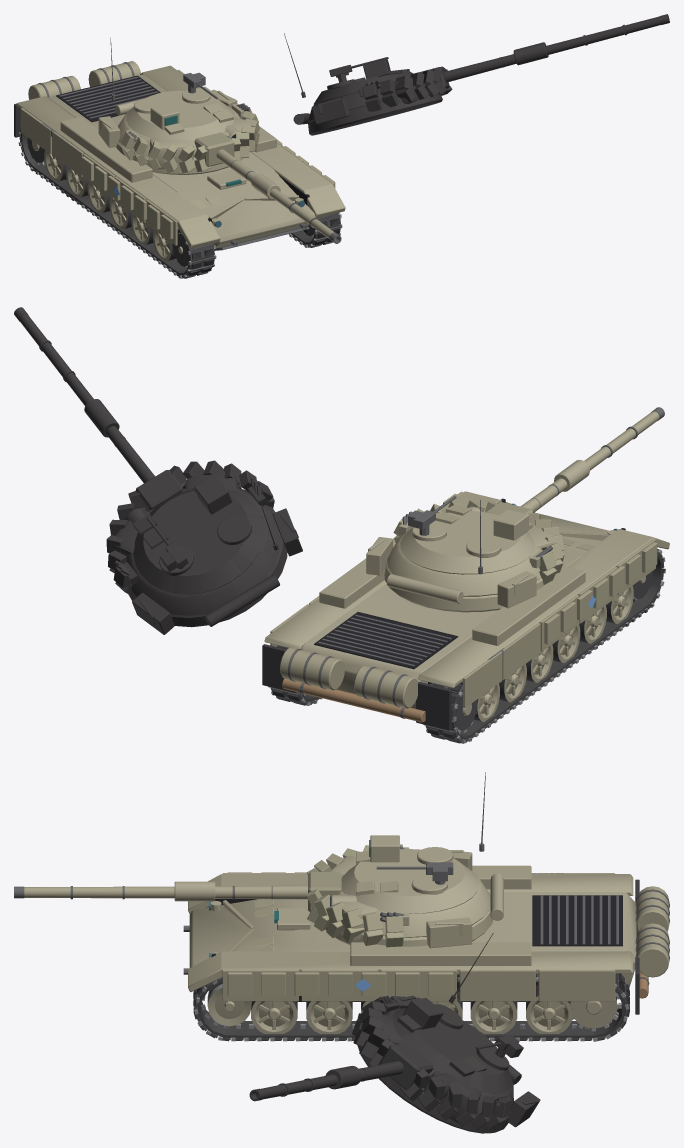
File: tank__t_72av.glb
The picture shows the model from 3 angles, top to bottom: view 1: azimuth 30°, elevation 25°; view 2: azimuth 150°, elevation 25°; view 3: azimuth 270°, elevation 25°; orthographic projection. The views are drawn at different scales.
Visible parts, largest first — view 1: Hull_Mesh, Wreck, Turret_Mesh, Track_L_Mesh, Gun_Mesh, Track_R_Mesh, Gunner_Sight_Mesh, Wheel_L0_Mesh, Wheel_L2_Mesh, Wheel_L3_Mesh, Wheel_L4_Mesh, Wheel_L1_Mesh (+1 smaller); view 2: Hull_Mesh, Wreck, Turret_Mesh, Track_L_Mesh, Gun_Mesh, Gunner_Sight_Mesh, Wheel_L3_Mesh, Wheel_L5_Mesh, Wheel_L1_Mesh, Wheel_L2_Mesh, Wheel_L4_Mesh; view 3: Hull_Mesh, Wreck, Turret_Mesh, Gun_Mesh, Track_R_Mesh, Wheel_R0_Mesh, Wheel_R1_Mesh, Wheel_R4_Mesh, Wheel_R5_Mesh, Sprocket_R_Mesh, Idler_R_Mesh, Gunner_Sight_Mesh (+1 smaller).
Boxes of the visible parts, box(x1,y1,x2,y2) form: Hull_Mesh: box(14, 61, 345, 250); Wreck: box(18, 14, 669, 278); Turret_Mesh: box(98, 89, 259, 174); Track_L_Mesh: box(18, 124, 216, 278); Gun_Mesh: box(194, 132, 341, 243); Track_R_Mesh: box(289, 213, 342, 247); Gunner_Sight_Mesh: box(150, 103, 179, 129); Wheel_L0_Mesh: box(44, 150, 66, 181); Wheel_L2_Mesh: box(87, 182, 110, 213); Wheel_L3_Mesh: box(109, 198, 131, 229); Wheel_L4_Mesh: box(131, 214, 153, 245); Wheel_L1_Mesh: box(66, 166, 88, 197); Hull_Mesh: box(262, 491, 669, 730); Wreck: box(14, 307, 665, 743); Turret_Mesh: box(366, 500, 564, 612); Track_L_Mesh: box(423, 549, 665, 743); Gun_Mesh: box(486, 407, 664, 515); Gunner_Sight_Mesh: box(493, 509, 528, 540); Wheel_L3_Mesh: box(552, 625, 580, 663); Wheel_L5_Mesh: box(606, 586, 633, 624); Wheel_L1_Mesh: box(499, 664, 526, 702); Wheel_L2_Mesh: box(526, 644, 553, 682); Wheel_L4_Mesh: box(579, 605, 606, 643); Hull_Mesh: box(183, 865, 669, 1014); Wreck: box(194, 933, 629, 1133); Turret_Mesh: box(307, 844, 503, 948); Gun_Mesh: box(14, 872, 341, 912); Track_R_Mesh: box(193, 973, 629, 1041); Wheel_R0_Mesh: box(526, 984, 572, 1033); Wheel_R1_Mesh: box(470, 1001, 517, 1033); Wheel_R4_Mesh: box(306, 1001, 352, 1033); Wheel_R5_Mesh: box(251, 1001, 297, 1033); Sprocket_R_Mesh: box(570, 992, 620, 1031); Idler_R_Mesh: box(207, 984, 251, 1026); Gunner_Sight_Mesh: box(369, 835, 399, 862).
Size of what is drawn, in the model's own units: 11.53 by 3.38 by 10.13.
